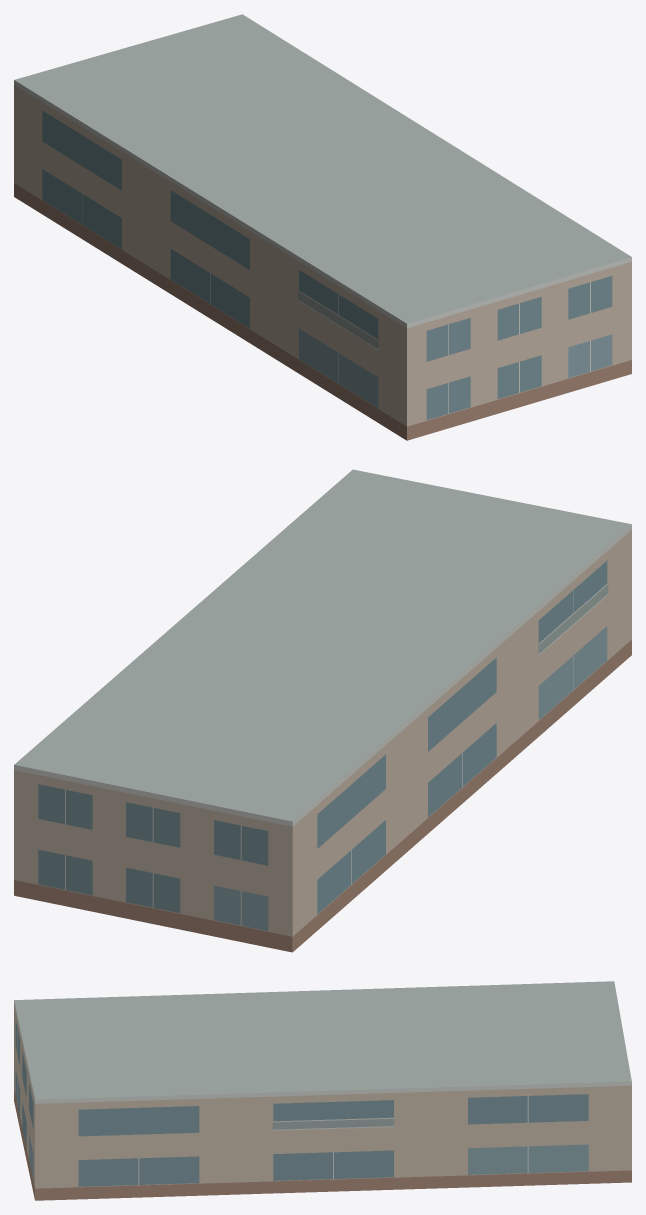
Rendered from survey-upis-32585834.glb.
3 views of the same model, one above another, from view 1: azimuth 30°, elevation 25°; view 2: azimuth 150°, elevation 25°; view 3: azimuth 270°, elevation 25° (orthographic). The views are drawn at different scales.
Visible parts, largest first — view 1: survey-upis-32585834.tmp; view 2: survey-upis-32585834.tmp; view 3: survey-upis-32585834.tmp.
Part boxes in pixels (x1,y1,x2,y2): survey-upis-32585834.tmp: [14, 14, 631, 440]; survey-upis-32585834.tmp: [14, 469, 631, 952]; survey-upis-32585834.tmp: [14, 981, 631, 1200].
Size of the model in its own units: 15.4 by 6.1 by 33.88.
